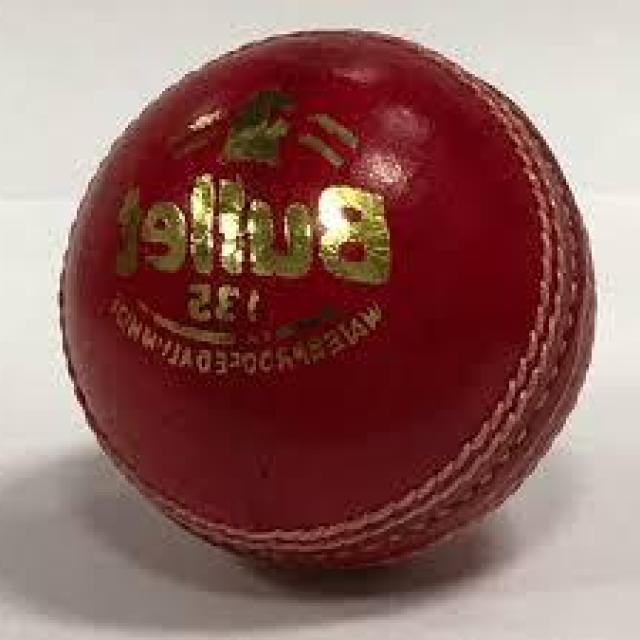ball: (60, 31, 600, 583)
